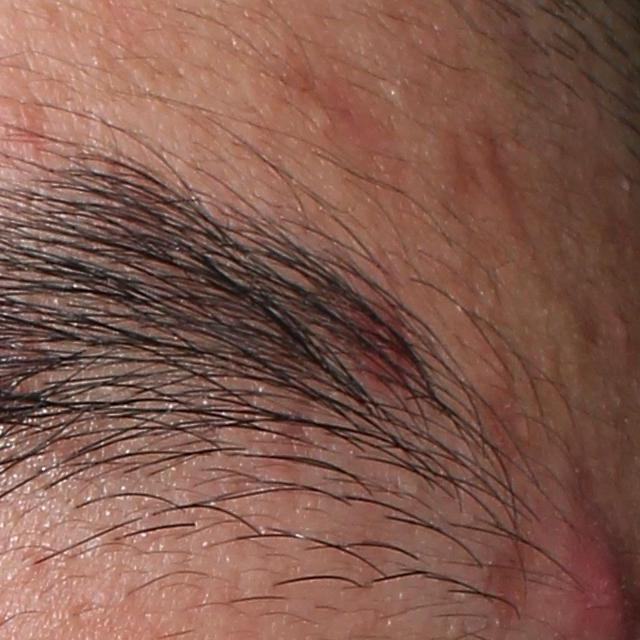papule: (470, 330, 514, 383), (607, 305, 636, 347)
